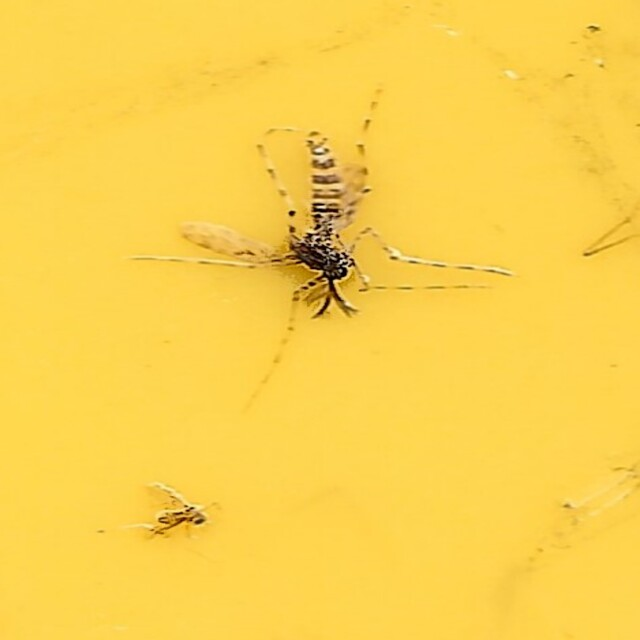Nematocera: (168, 97, 504, 352), (136, 476, 214, 543)
